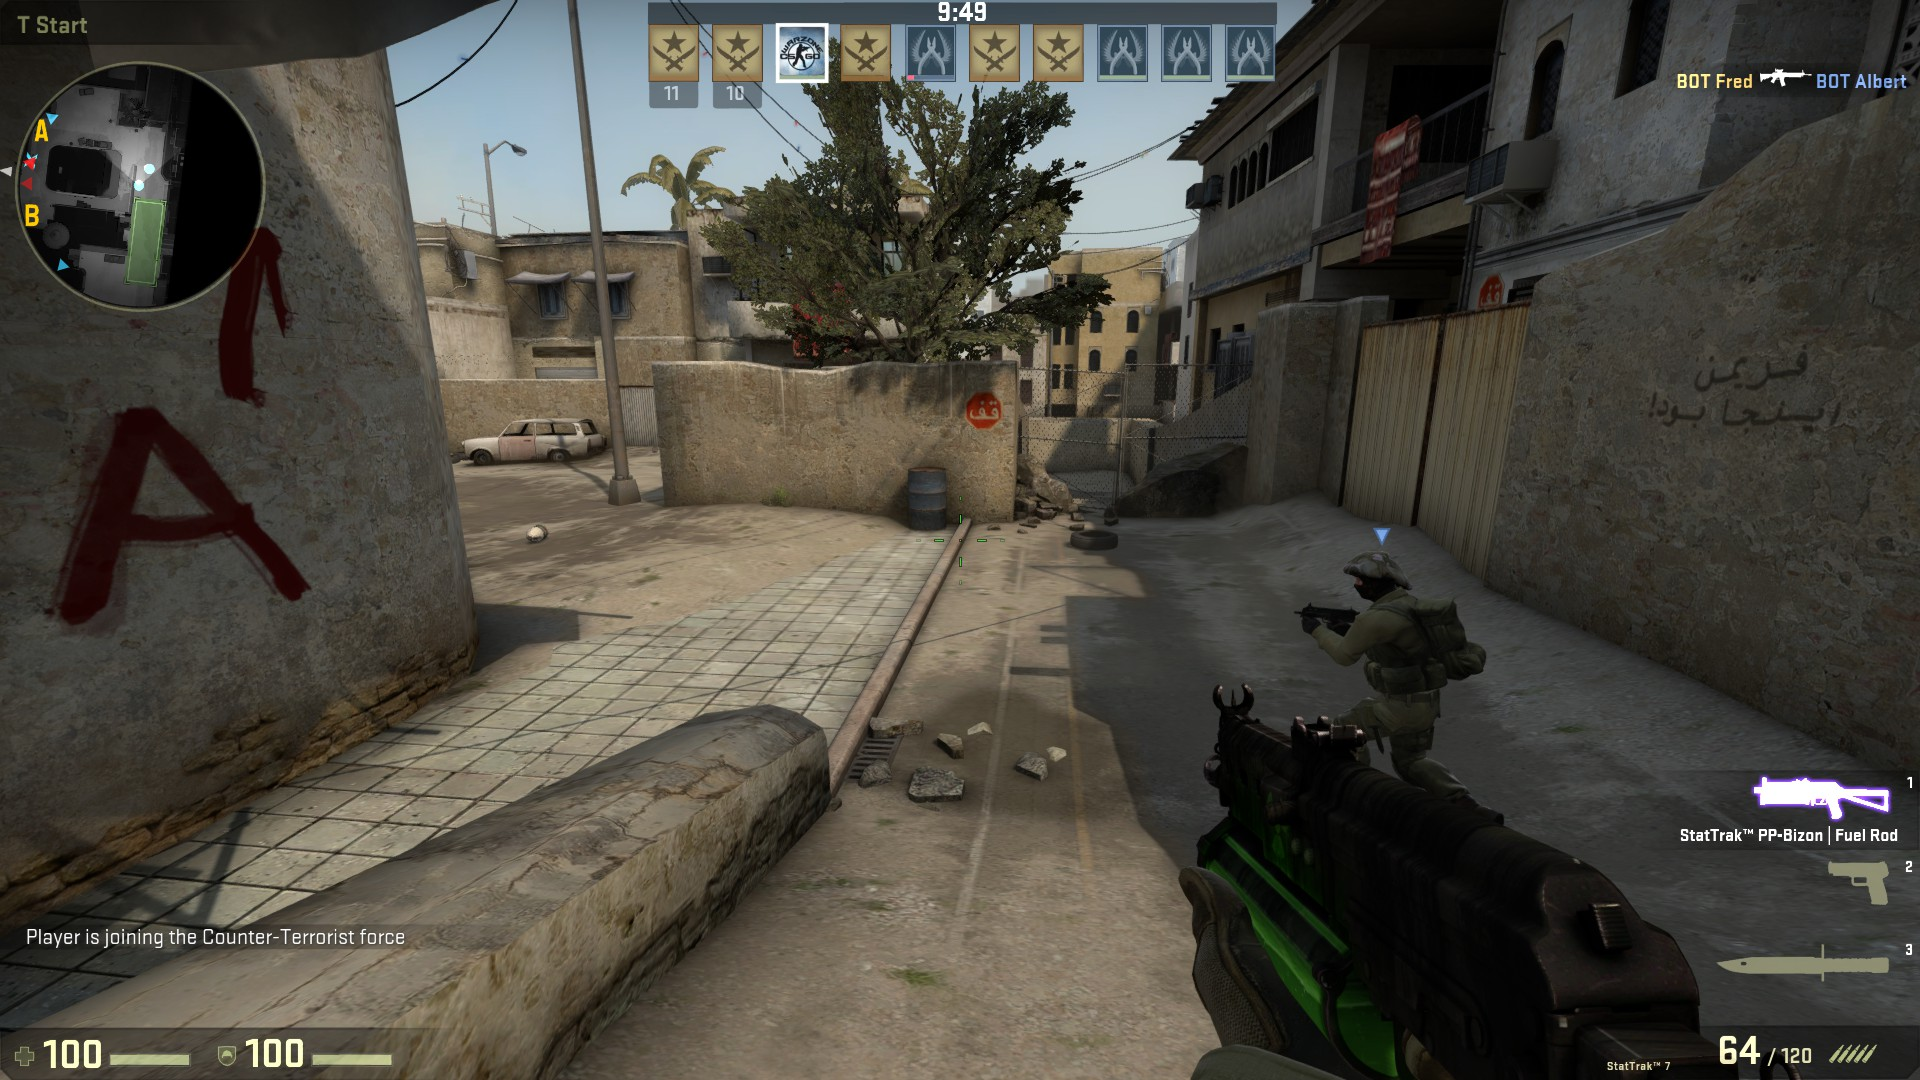c: (1302, 545, 1480, 789)
ch: (1349, 549, 1414, 608)
